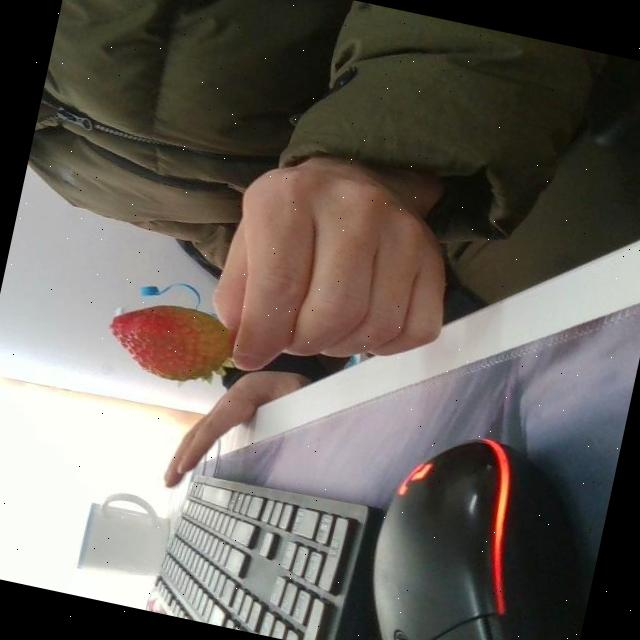strawberry: (94, 288, 242, 392)
